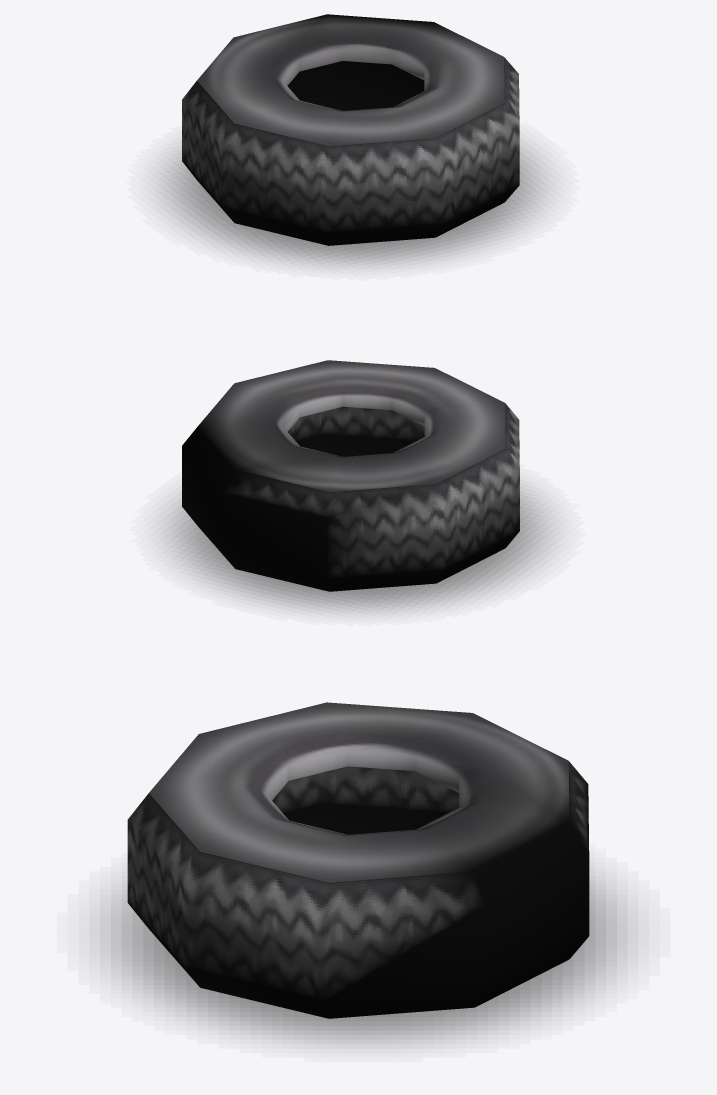
The model's file is ice_tire.glb.
The picture shows the model from 3 angles, top to bottom: view 1: azimuth 30°, elevation 25°; view 2: azimuth 150°, elevation 25°; view 3: azimuth 270°, elevation 25°; orthographic projection. The views are drawn at different scales.
Visible parts, largest first — view 1: tiremesh, drop_shadow; view 2: tiremesh, drop_shadow; view 3: tiremesh, drop_shadow.
Boxes of the visible parts, box(x1,y1,x2,y2) form: tiremesh: box(182, 14, 519, 245); drop_shadow: box(157, 145, 549, 267); tiremesh: box(182, 360, 519, 591); drop_shadow: box(161, 487, 554, 613); tiremesh: box(127, 702, 589, 1018); drop_shadow: box(100, 876, 627, 1044).
Size of the model in its own units: 4.38 by 1.07 by 4.38.
Materials: 4 (4 with a texture image).
